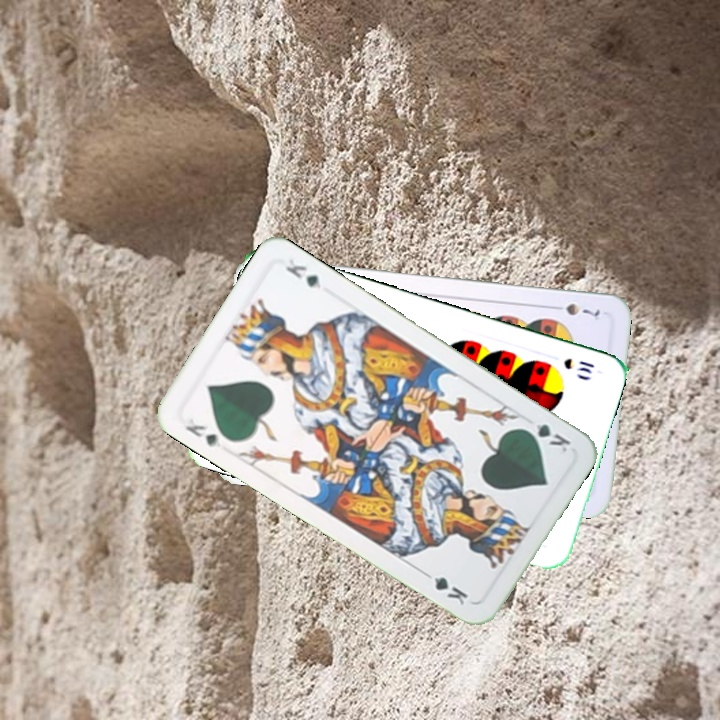GK: (518, 418, 574, 455), (180, 414, 225, 451)
S10: (559, 354, 597, 376)
S7: (547, 299, 603, 320)
